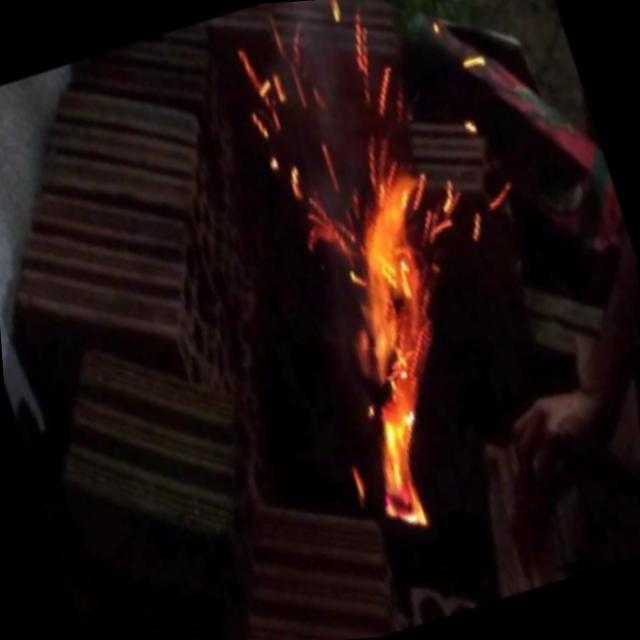fire: (243, 119, 540, 558)
